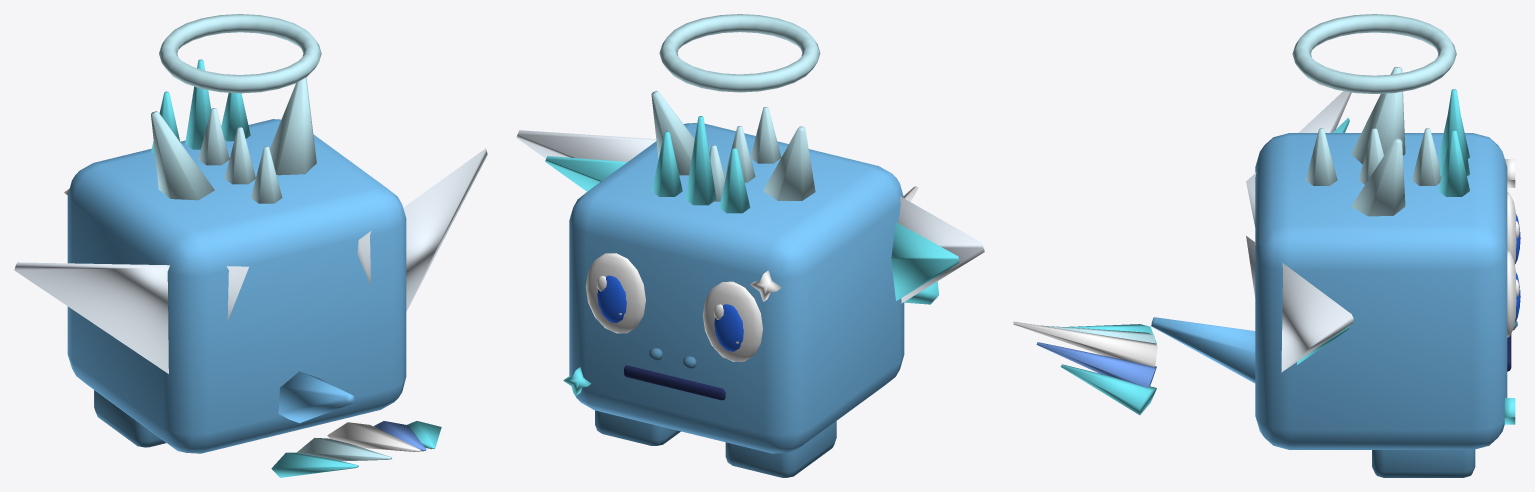
File: pet_cometdragon.fbx
3 renders of one model, left to right at view 1: azimuth 30°, elevation 25°; view 2: azimuth 150°, elevation 25°; view 3: azimuth 270°, elevation 25°, orthographic. The views are drawn at different scales.
Visible parts, largest first — view 1: pet_cometdragon; view 2: pet_cometdragon; view 3: pet_cometdragon.
Boxes of the visible parts, x1,y1,x2,y2 form: pet_cometdragon: (14, 14, 487, 477); pet_cometdragon: (516, 14, 984, 477); pet_cometdragon: (1013, 14, 1520, 477).
Size of the model in its own units: 4.16 by 3.21 by 3.82.
Materials: 1 (1 with a texture image).
